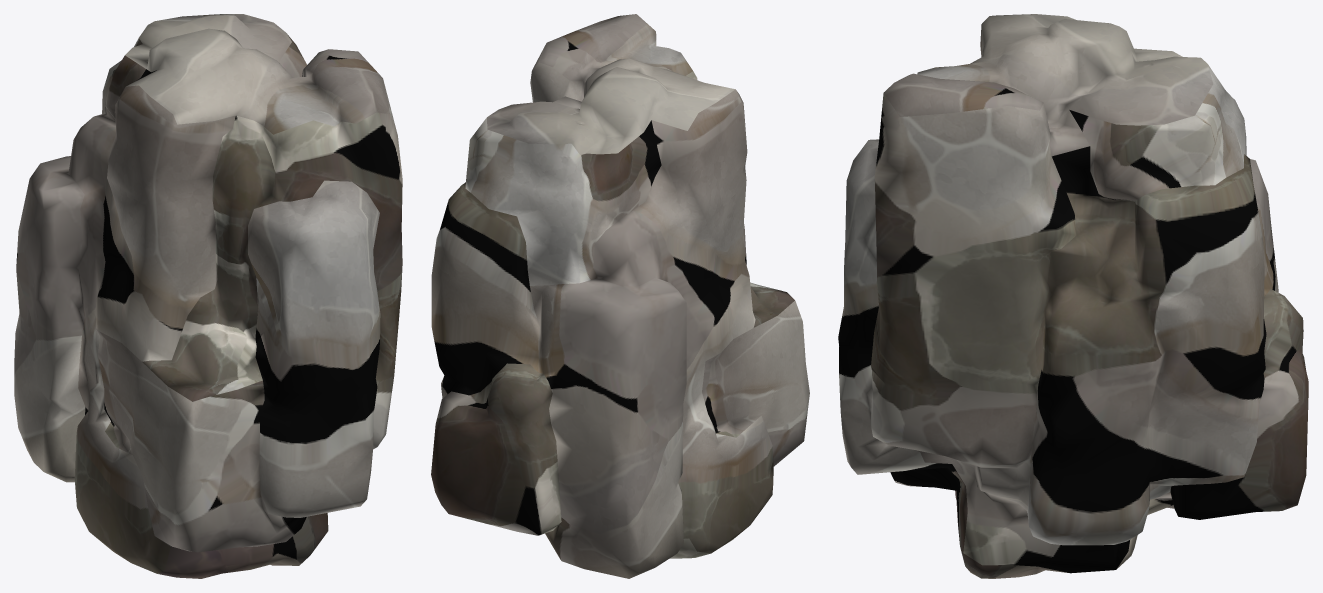
Rendered from cliffrock.obj.
The picture shows the model from 3 angles, left to right: view 1: azimuth 30°, elevation 25°; view 2: azimuth 150°, elevation 25°; view 3: azimuth 270°, elevation 25°; orthographic projection. The views are drawn at different scales.
Visible parts, largest first — view 1: cliffrock:Mesh; view 2: cliffrock:Mesh; view 3: cliffrock:Mesh.
Part boxes in pixels (bbox=[...]): cliffrock:Mesh: bbox=[14, 14, 402, 578]; cliffrock:Mesh: bbox=[431, 14, 809, 578]; cliffrock:Mesh: bbox=[838, 14, 1308, 578].
Size of the model in its own units: 281 by 512 by 412.
